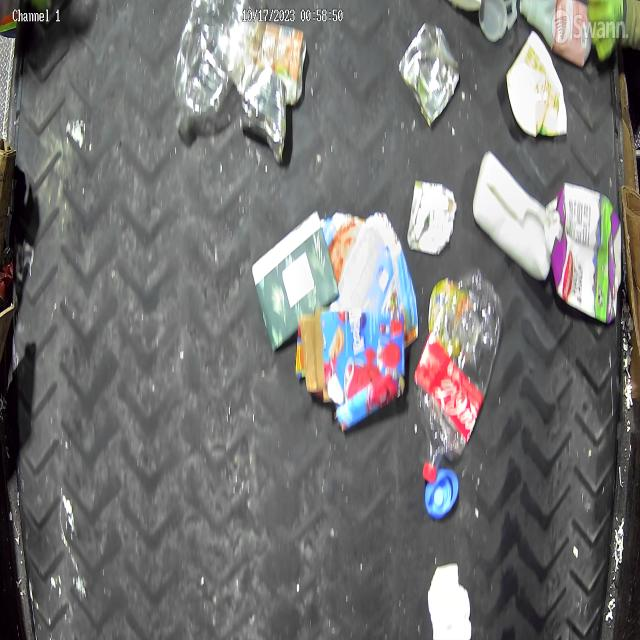can: (398, 20, 460, 127)
non_white_jug: (543, 182, 623, 324), (242, 64, 287, 164)
plastic_bottle: (414, 277, 506, 481), (175, 2, 244, 128)
